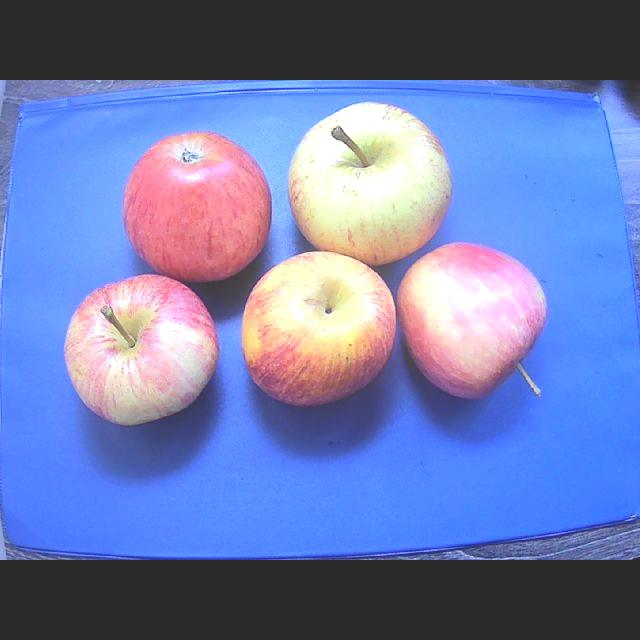manzana: (289, 102, 450, 265), (242, 252, 395, 406), (64, 275, 218, 424), (398, 243, 546, 398), (124, 132, 271, 281)
